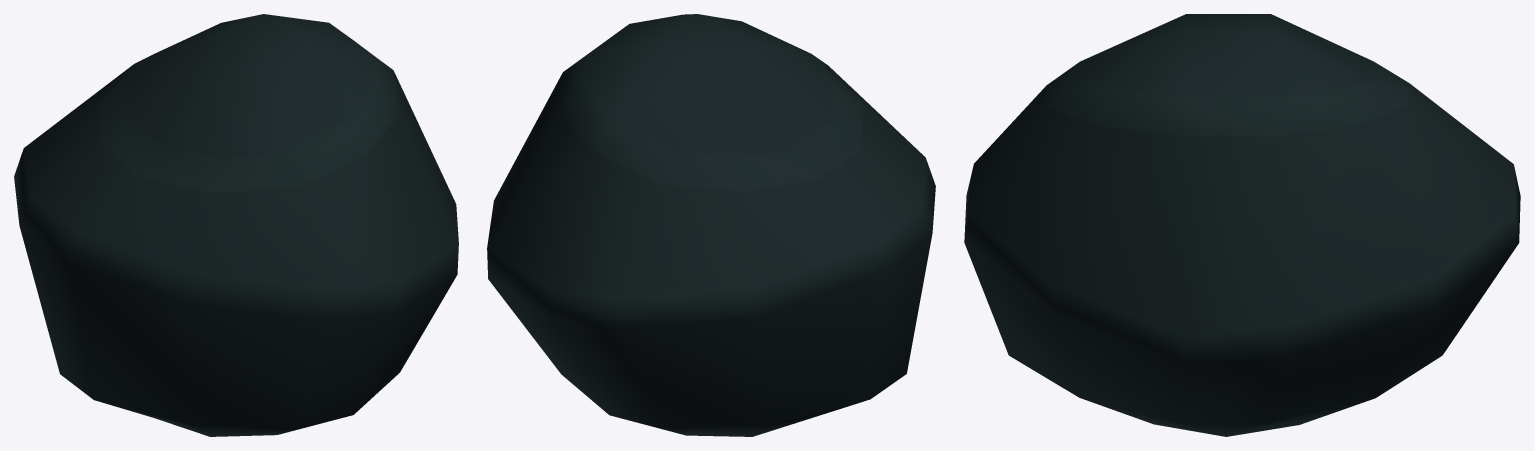
Rendered from coal_ore_L.fbx.
3 renders of one model, left to right at view 1: azimuth 30°, elevation 25°; view 2: azimuth 150°, elevation 25°; view 3: azimuth 270°, elevation 25°, orthographic. The views are drawn at different scales.
Parts seen in each view (by area): view 1: coal_ore_L; view 2: coal_ore_L; view 3: coal_ore_L.
Part boxes in pixels (bbox=[...]): coal_ore_L: bbox=[14, 14, 458, 436]; coal_ore_L: bbox=[487, 14, 935, 436]; coal_ore_L: bbox=[964, 14, 1520, 436].
Size of the model in its own units: 57.57 by 50.51 by 64.42.
1 material, 1 textured.
